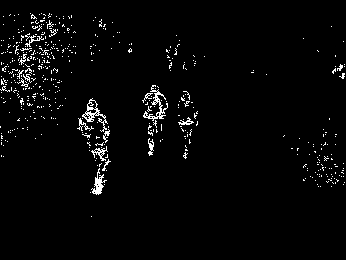person: (77, 95, 112, 195), (141, 82, 168, 157), (175, 87, 200, 159)
